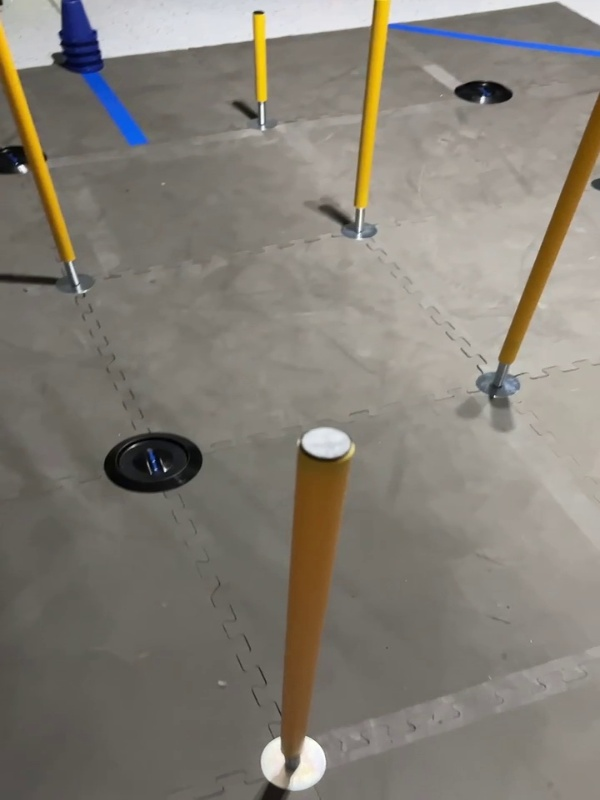base: (247, 732, 338, 797)
top: (287, 420, 364, 468)
